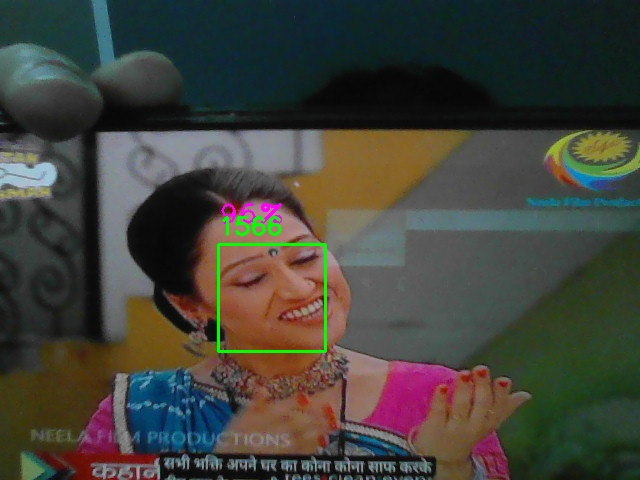fake: (218, 244, 326, 352)
